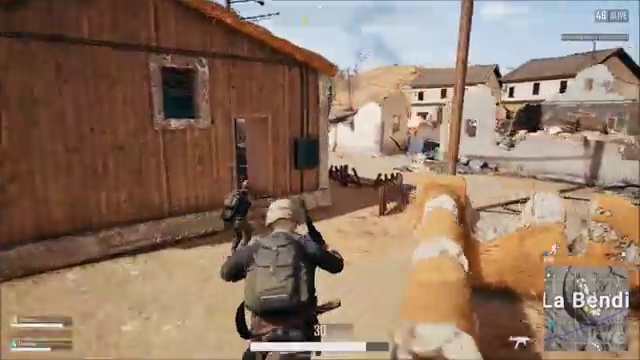Player: (208, 204, 369, 316)
